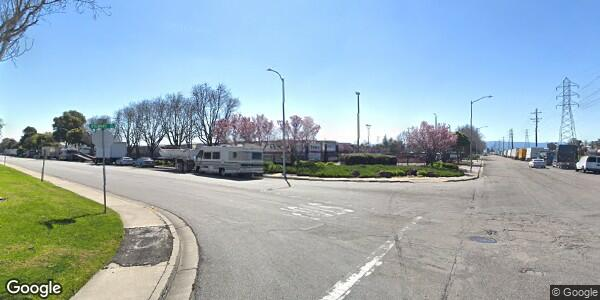Steel_Pole: (263, 67, 287, 176), (468, 94, 494, 173)
Wood_Pole: (528, 107, 544, 147)
